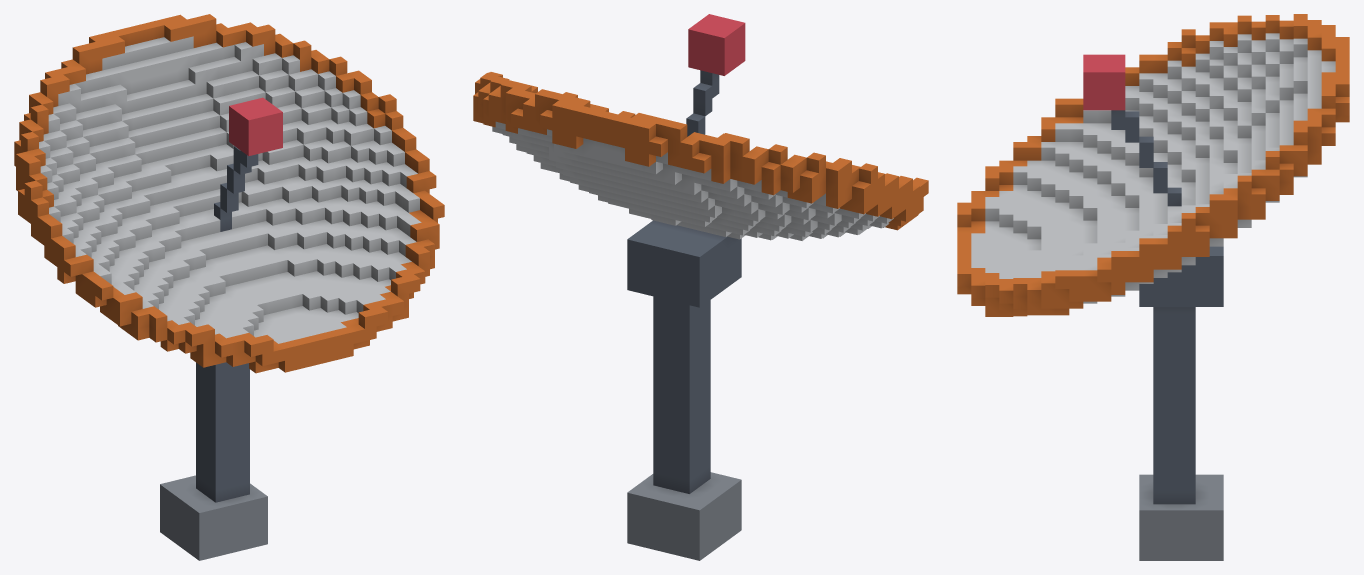
The model's file is dish_n.glb.
3 renders of one model, left to right at view 1: azimuth 30°, elevation 25°; view 2: azimuth 150°, elevation 25°; view 3: azimuth 270°, elevation 25°, orthographic. The views are drawn at different scales.
Parts seen in each view (by area): view 1: Base; view 2: Base; view 3: Base.
Boxes of the visible parts, <box> form: Base: <box>14,14,444,560</box>; Base: <box>473,14,928,560</box>; Base: <box>957,14,1349,560</box>.
Size of the model in its own units: 3.2 by 3.8 by 2.8.
